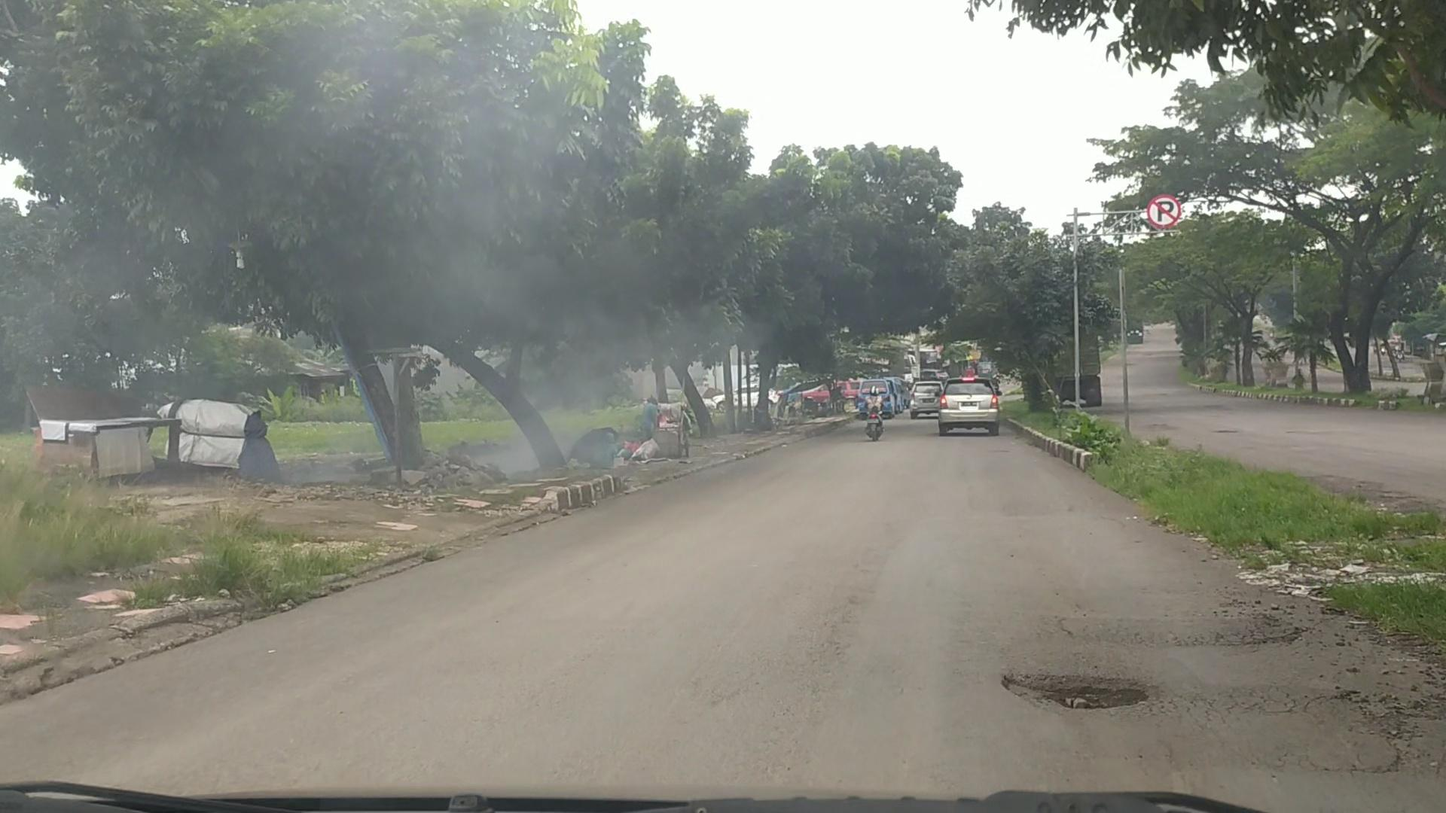pothole: (1013, 676, 1151, 710)
